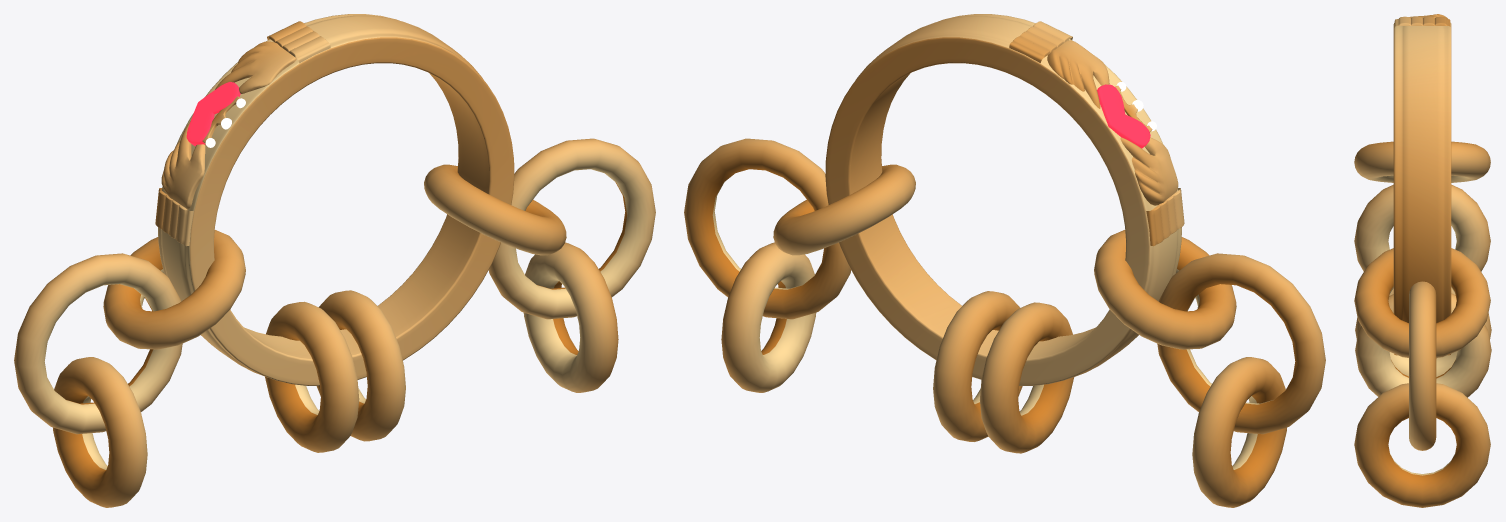
The model's file is hashigo_r_a.fbx.
The picture shows the model from 3 angles, left to right: view 1: azimuth 30°, elevation 25°; view 2: azimuth 150°, elevation 25°; view 3: azimuth 270°, elevation 25°; orthographic projection. The views are drawn at different scales.
Visible parts, largest first — view 1: polySurface27; view 2: polySurface27; view 3: polySurface27.
Part boxes in pixels (<box>): polySurface27: <box>14,14,655,507</box>; polySurface27: <box>684,14,1325,507</box>; polySurface27: <box>1354,14,1491,507</box>.
Bounding box in the file's own units: 19.09 × 12.02 × 4.02.
